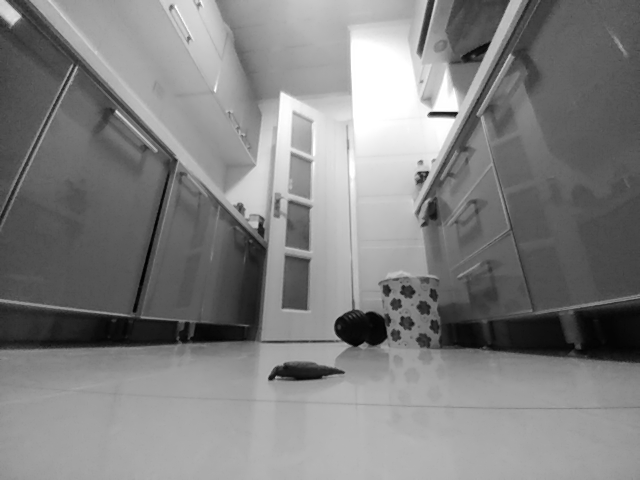pet feces: (268, 359, 346, 383)
